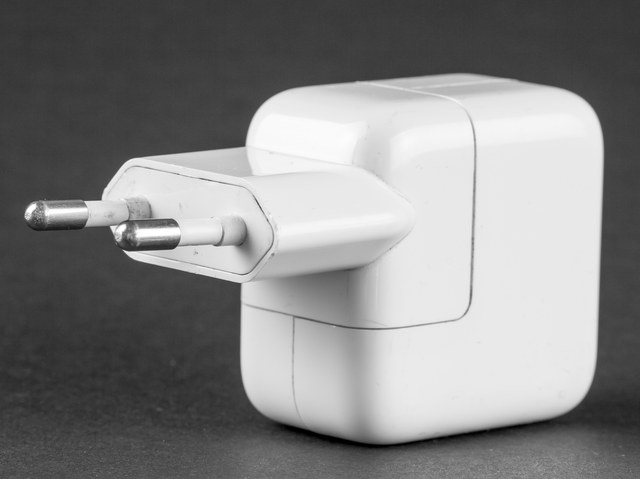Boat Airdopes 131: (32, 24, 608, 455)
